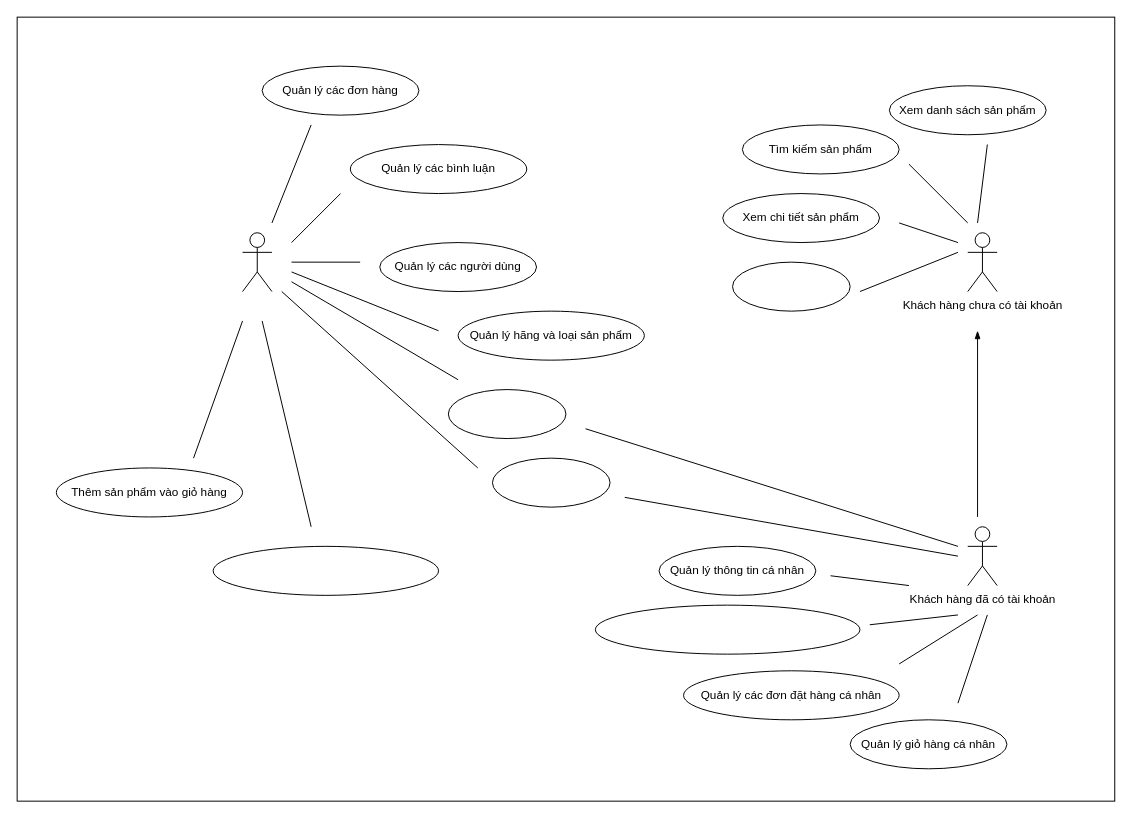
Some shapes in this 1132 by 818 pixel diagram are drawn without their labels. Each missing label, with the box of its shape:
Admin: (242, 232, 272, 292)
Thêm, xóa sản phẩm trong giỏ hàng: (212, 545, 439, 595)
Đánh giá các sản phẩm mình đã đặt hàng: (594, 604, 860, 654)
Đăng ký tài khoản: (732, 261, 850, 311)
Đăng nhập: (491, 457, 610, 507)
Đăng xuất: (447, 389, 566, 439)
